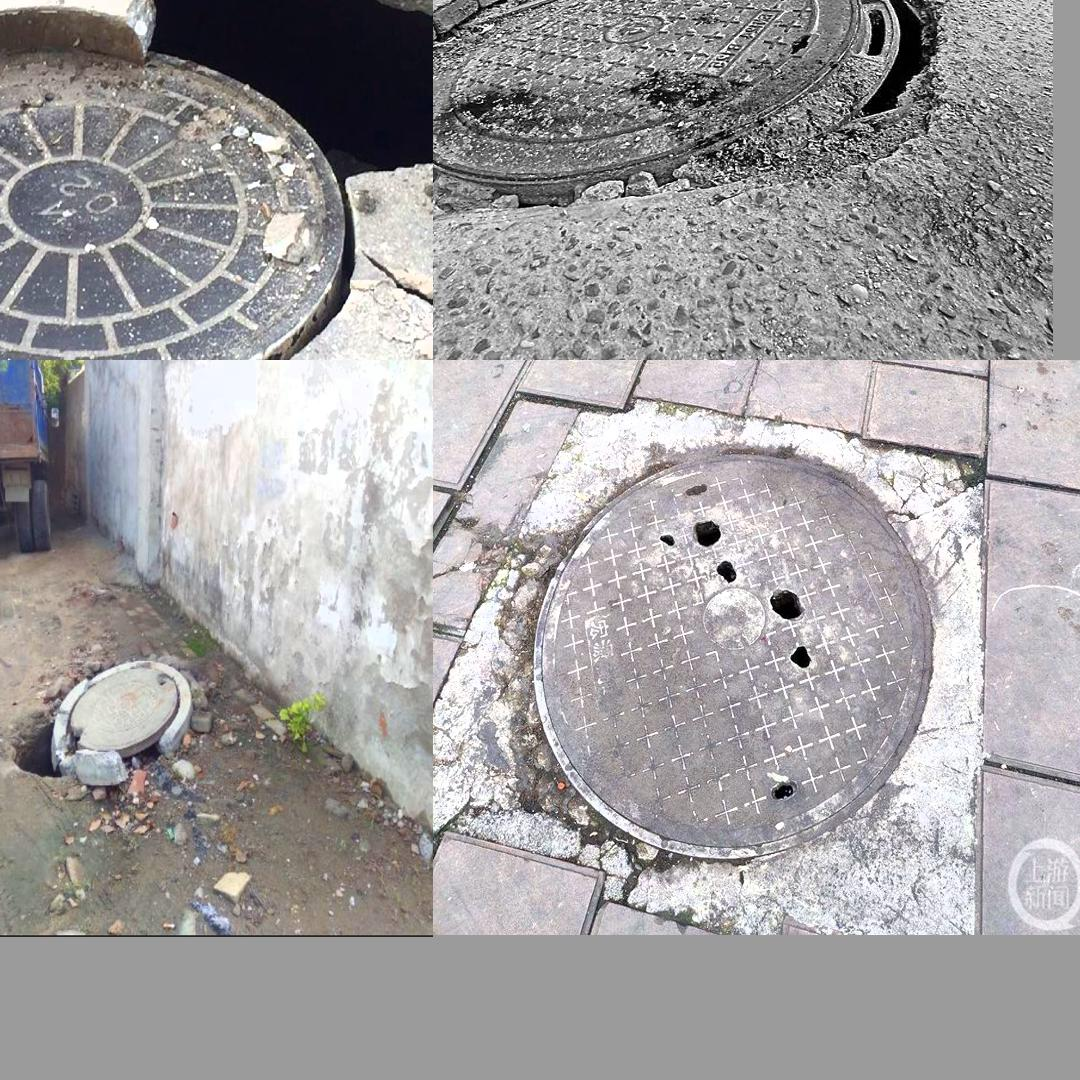circle: (449, 393, 1001, 921), (434, 0, 970, 297), (0, 0, 420, 354), (25, 658, 194, 788)
